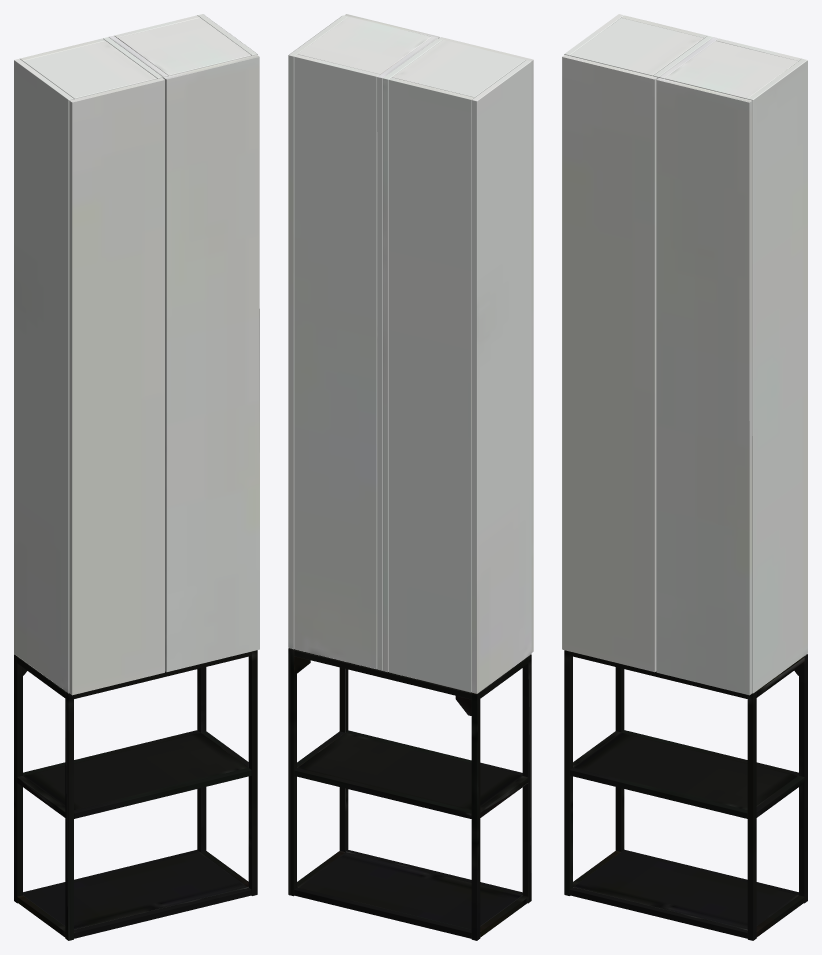
The model's file is enhet_rega_79613351.glb.
3 views of the same model, side by side, from view 1: azimuth 30°, elevation 25°; view 2: azimuth 150°, elevation 25°; view 3: azimuth 330°, elevation 25° (orthographic).
Visible parts, largest first — view 1: enhet_rega_79613351; view 2: enhet_rega_79613351; view 3: enhet_rega_79613351.
Part boxes in pixels (x1=…): enhet_rega_79613351: x1=14, y1=14, x2=259, y2=940; enhet_rega_79613351: x1=288, y1=14, x2=533, y2=940; enhet_rega_79613351: x1=562, y1=14, x2=807, y2=940.
Bounding box in the file's own units: 0.6005 × 2.55 × 0.3164.
1 material, 1 textured.
